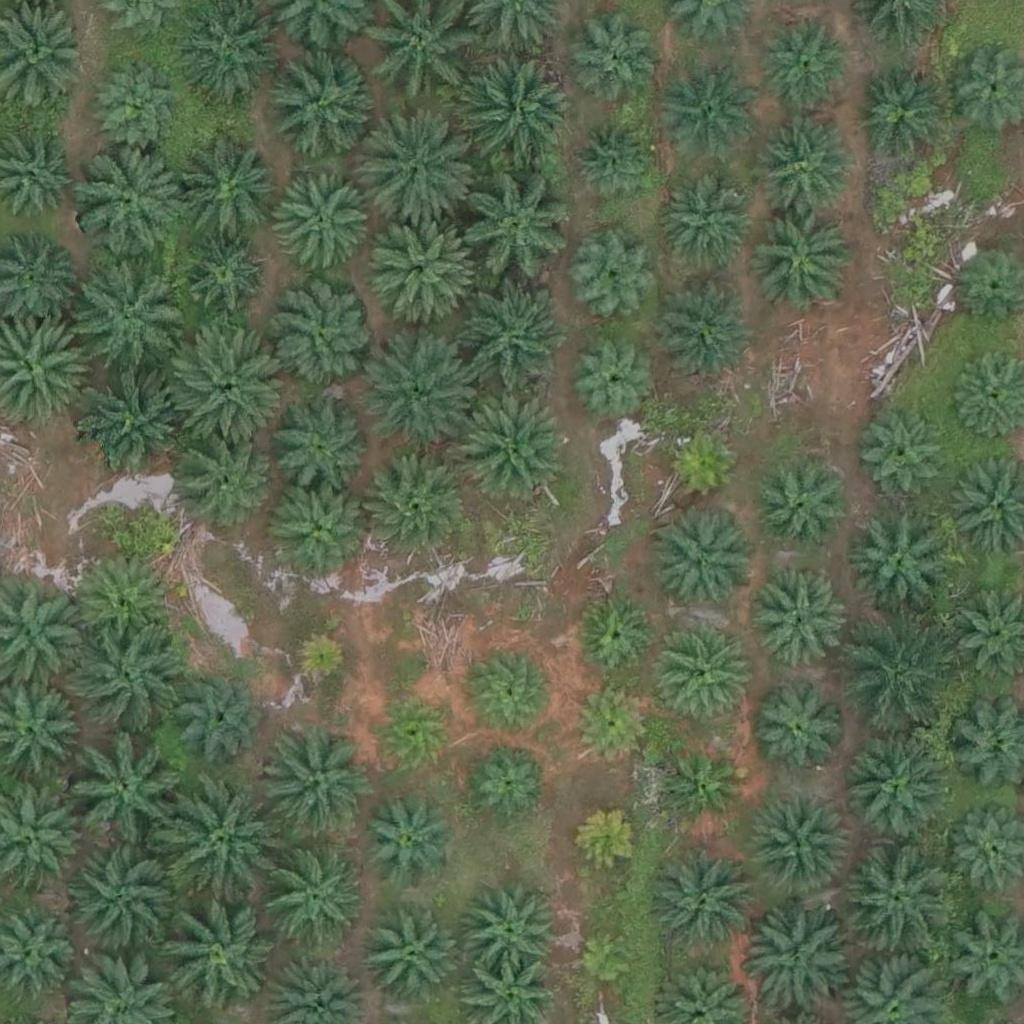Kelapa_Sawit: (647, 841, 760, 955), (365, 117, 478, 231), (843, 839, 956, 952), (745, 907, 858, 1020), (66, 842, 179, 955), (841, 503, 954, 616), (842, 626, 955, 739), (459, 58, 572, 171), (452, 174, 565, 287), (67, 248, 180, 361), (80, 365, 193, 478), (163, 789, 276, 902), (69, 738, 182, 851), (451, 289, 563, 403), (455, 393, 567, 507), (357, 450, 469, 564), (70, 146, 182, 260), (159, 898, 271, 1011), (365, 339, 477, 452), (365, 212, 477, 325), (257, 48, 369, 161), (172, 136, 284, 249), (172, 324, 284, 437), (260, 725, 372, 838), (75, 621, 187, 734), (746, 794, 846, 895), (460, 878, 560, 979), (354, 791, 454, 892), (361, 907, 461, 1008), (267, 847, 367, 948), (755, 120, 855, 221), (751, 212, 851, 313), (752, 452, 852, 553), (752, 562, 852, 663), (745, 685, 845, 786), (656, 168, 756, 269), (657, 277, 757, 378), (650, 514, 750, 615), (649, 622, 749, 723), (271, 174, 371, 275), (271, 286, 371, 387), (273, 395, 373, 496), (168, 434, 268, 535), (74, 551, 174, 652), (850, 736, 950, 836), (658, 71, 758, 171), (273, 481, 373, 581), (660, 418, 748, 506), (468, 646, 556, 734), (468, 738, 556, 826), (566, 678, 654, 766), (574, 589, 662, 677), (856, 409, 944, 497), (761, 16, 849, 104), (569, 334, 657, 422), (573, 226, 661, 314), (176, 232, 264, 320), (93, 62, 181, 150), (181, 671, 269, 759), (369, 688, 456, 776), (857, 72, 944, 160), (659, 738, 746, 826), (571, 118, 658, 206), (571, 13, 658, 101), (571, 800, 646, 876), (286, 629, 349, 692), (576, 929, 638, 992)
